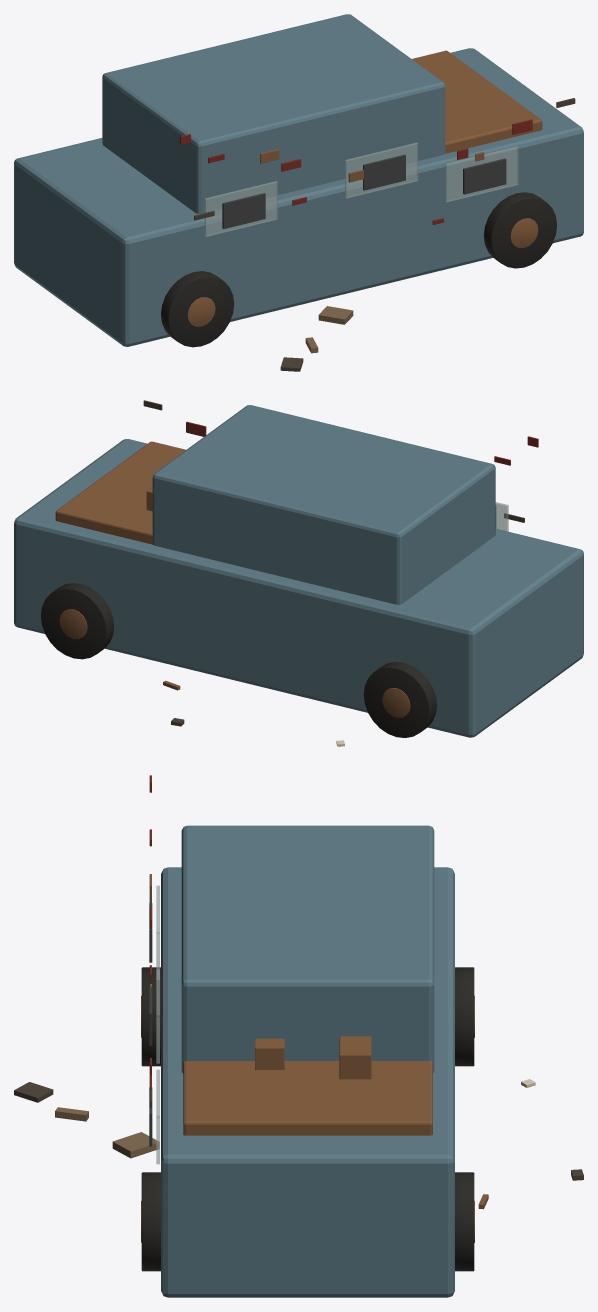
The model's file is dz_vehicle_pickup_utility_premium.glb.
3 views of the same model, one above another, from view 1: azimuth 30°, elevation 25°; view 2: azimuth 150°, elevation 25°; view 3: azimuth 270°, elevation 25° (orthographic). The views are drawn at different scales.
Parts seen in each view (by area): view 1: vehicle_lower_body_dented, vehicle_cabin_crushed, open_truck_bed, flat_muddy_tire_-1.6099999999999999_-1.014, flat_muddy_tire_1.6099999999999999_-1.014, broken_window_-1.15, broken_window_1.25, broken_window_0.25, window_hole_shadow_1.25, window_hole_shadow_-1.15, window_hole_shadow_0.25, rusted_wheel_hub_1.6099999999999999_-1.014 (+2 smaller); view 2: vehicle_lower_body_dented, vehicle_cabin_crushed, open_truck_bed, flat_muddy_tire_-1.6099999999999999_1.014, flat_muddy_tire_1.6099999999999999_1.014, rusted_wheel_hub_-1.6099999999999999_1.014, rusted_wheel_hub_1.6099999999999999_1.014; view 3: vehicle_lower_body_dented, vehicle_cabin_crushed, open_truck_bed, flat_muddy_tire_-1.6099999999999999_1.014, flat_muddy_tire_1.6099999999999999_-1.014, flat_muddy_tire_1.6099999999999999_1.014, flat_muddy_tire_-1.6099999999999999_-1.014, pickup_bed_junk_2, pickup_bed_junk_1, vehicle_debris_05.
Part boxes in pixels (x1,y1,x2,y2): vehicle_lower_body_dented: (14, 48, 583, 346); vehicle_cabin_crushed: (102, 14, 445, 213); open_truck_bed: (412, 50, 542, 153); flat_muddy_tire_-1.6099999999999999_-1.014: (161, 271, 234, 347); flat_muddy_tire_1.6099999999999999_-1.014: (484, 192, 556, 268); broken_window_-1.15: (204, 181, 277, 236); broken_window_1.25: (445, 146, 518, 202); broken_window_0.25: (345, 142, 418, 198); window_hole_shadow_1.25: (463, 158, 506, 194); window_hole_shadow_-1.15: (222, 193, 265, 228); window_hole_shadow_0.25: (363, 154, 405, 190); rusted_wheel_hub_1.6099999999999999_-1.014: (510, 218, 538, 248); vehicle_lower_body_dented: (14, 439, 583, 737); vehicle_cabin_crushed: (152, 405, 495, 604); open_truck_bed: (55, 441, 185, 544); flat_muddy_tire_-1.6099999999999999_1.014: (363, 662, 436, 737); flat_muddy_tire_1.6099999999999999_1.014: (41, 583, 114, 659); rusted_wheel_hub_-1.6099999999999999_1.014: (382, 688, 410, 717); rusted_wheel_hub_1.6099999999999999_1.014: (59, 609, 87, 638); vehicle_lower_body_dented: (161, 867, 454, 1297); vehicle_cabin_crushed: (181, 825, 434, 1073); open_truck_bed: (183, 1061, 432, 1135); flat_muddy_tire_-1.6099999999999999_1.014: (455, 967, 474, 1066); flat_muddy_tire_1.6099999999999999_-1.014: (141, 1172, 160, 1271); flat_muddy_tire_1.6099999999999999_1.014: (455, 1172, 474, 1271); flat_muddy_tire_-1.6099999999999999_-1.014: (141, 967, 160, 1066); pickup_bed_junk_2: (339, 1036, 371, 1079); pickup_bed_junk_1: (255, 1038, 284, 1069); vehicle_debris_05: (112, 1132, 159, 1158).
Bounding box in the file's own units: 4.6 × 2.04 × 3.78.
